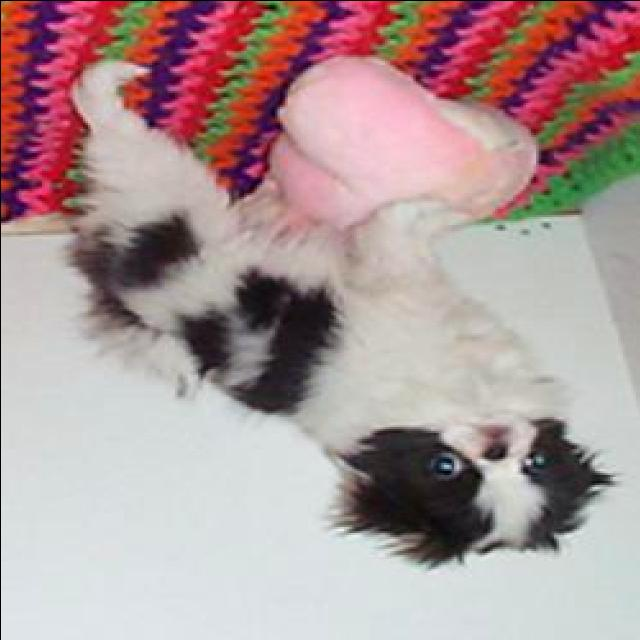husky: (64, 56, 617, 572)
